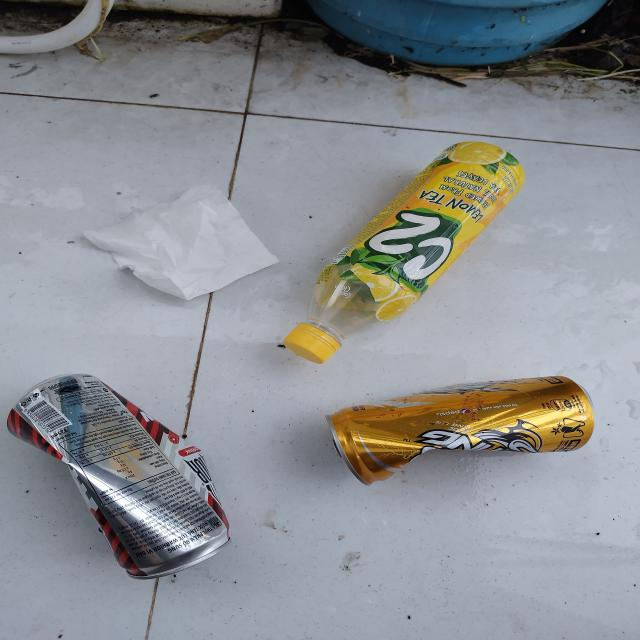bottle: (283, 141, 525, 365)
can: (4, 372, 236, 578), (326, 376, 598, 487)
napkin: (79, 186, 281, 303)
